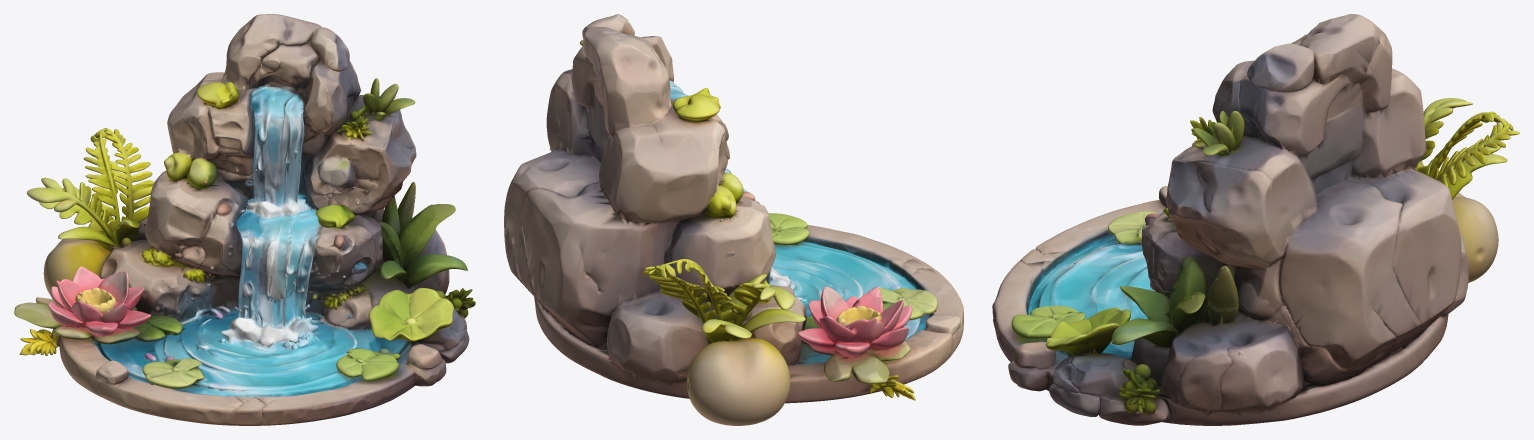
File: waterfall2.glb
3 renders of one model, left to right at view 1: azimuth 30°, elevation 25°; view 2: azimuth 150°, elevation 25°; view 3: azimuth 270°, elevation 25°, orthographic. The views are drawn at different scales.
Parts seen in each view (by area): view 1: tripo_node_bc664597-cd27-4eb5-8757-c0000d2b2a51; view 2: tripo_node_bc664597-cd27-4eb5-8757-c0000d2b2a51; view 3: tripo_node_bc664597-cd27-4eb5-8757-c0000d2b2a51.
Boxes of the visible parts, x1,y1,x2,y2 form: tripo_node_bc664597-cd27-4eb5-8757-c0000d2b2a51: [14, 14, 475, 425]; tripo_node_bc664597-cd27-4eb5-8757-c0000d2b2a51: [504, 14, 963, 425]; tripo_node_bc664597-cd27-4eb5-8757-c0000d2b2a51: [992, 14, 1519, 425].
Bounding box in the file's own units: 0.9827 × 0.6831 × 0.9305.
Materials: 1 (1 with a texture image).
